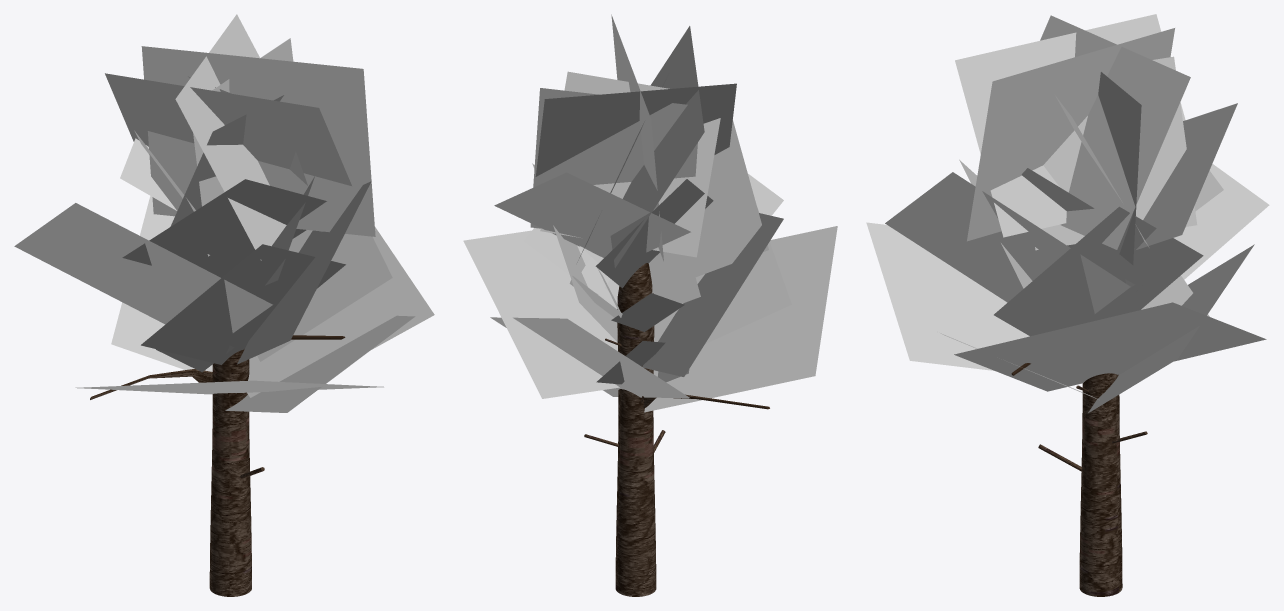
The model's file is ThickTree.fbx.
3 views of the same model, side by side, from view 1: azimuth 30°, elevation 25°; view 2: azimuth 150°, elevation 25°; view 3: azimuth 270°, elevation 25° (orthographic). The views are drawn at different scales.
Parts seen in each view (by area): view 1: pPlane5 (×2), pPlane7 (×2), pPlane9 (×2), polySurface1, pPlane4 (×2), pPlane3 (×2), pPlane2 (×2), pPlane8, pPlane6 (×2), pPlane1; view 2: pPlane4 (×2), pPlane6, pPlane9 (×2), pPlane1 (×2), polySurface1, pPlane5 (×2), pPlane8, pPlane7 (×2), pPlane2, pPlane3 (×2), pPlane12, pPlane13 (+2 smaller); view 3: pPlane3 (×2), pPlane7 (×2), pPlane4 (×2), pPlane8 (×2), pPlane6, polySurface1, pPlane9, pPlane1, pPlane5, pPlane2, pPlane13.
Boxes of the visible parts, bbox=[...] form: pPlane5 (×2): bbox=[14, 203, 345, 364]; pPlane7 (×2): bbox=[141, 38, 375, 256]; pPlane9 (×2): bbox=[105, 73, 351, 226]; polySurface1: bbox=[90, 335, 345, 596]; pPlane4 (×2): bbox=[111, 196, 434, 397]; pPlane3 (×2): bbox=[237, 181, 392, 364]; pPlane2 (×2): bbox=[122, 176, 326, 285]; pPlane8: bbox=[175, 14, 286, 260]; pPlane6 (×2): bbox=[75, 315, 415, 412]; pPlane1: bbox=[120, 138, 176, 210]; pPlane4 (×2): bbox=[463, 230, 690, 398]; pPlane6: bbox=[644, 226, 837, 412]; pPlane9 (×2): bbox=[540, 26, 720, 267]; pPlane1 (×2): bbox=[494, 172, 713, 288]; polySurface1: bbox=[584, 263, 769, 596]; pPlane5 (×2): bbox=[642, 208, 791, 376]; pPlane8: bbox=[535, 83, 736, 176]; pPlane7 (×2): bbox=[530, 14, 697, 261]; pPlane2: bbox=[648, 120, 768, 293]; pPlane3 (×2): bbox=[524, 163, 783, 341]; pPlane12: bbox=[611, 293, 684, 331]; pPlane13: bbox=[596, 341, 665, 384]; pPlane3 (×2): bbox=[885, 172, 1203, 336]; pPlane7 (×2): bbox=[967, 28, 1174, 265]; pPlane4 (×2): bbox=[954, 244, 1266, 413]; pPlane8 (×2): bbox=[1035, 15, 1197, 250]; pPlane6: bbox=[866, 222, 1029, 370]; polySurface1: bbox=[1011, 363, 1147, 596]; pPlane9: bbox=[955, 14, 1185, 237]; pPlane1: bbox=[1136, 103, 1237, 249]; pPlane5: bbox=[1174, 164, 1269, 279]; pPlane2: bbox=[1021, 168, 1140, 247]; pPlane13: bbox=[1141, 275, 1209, 316].
Bounding box in the file's own units: 506 × 823 × 552.
